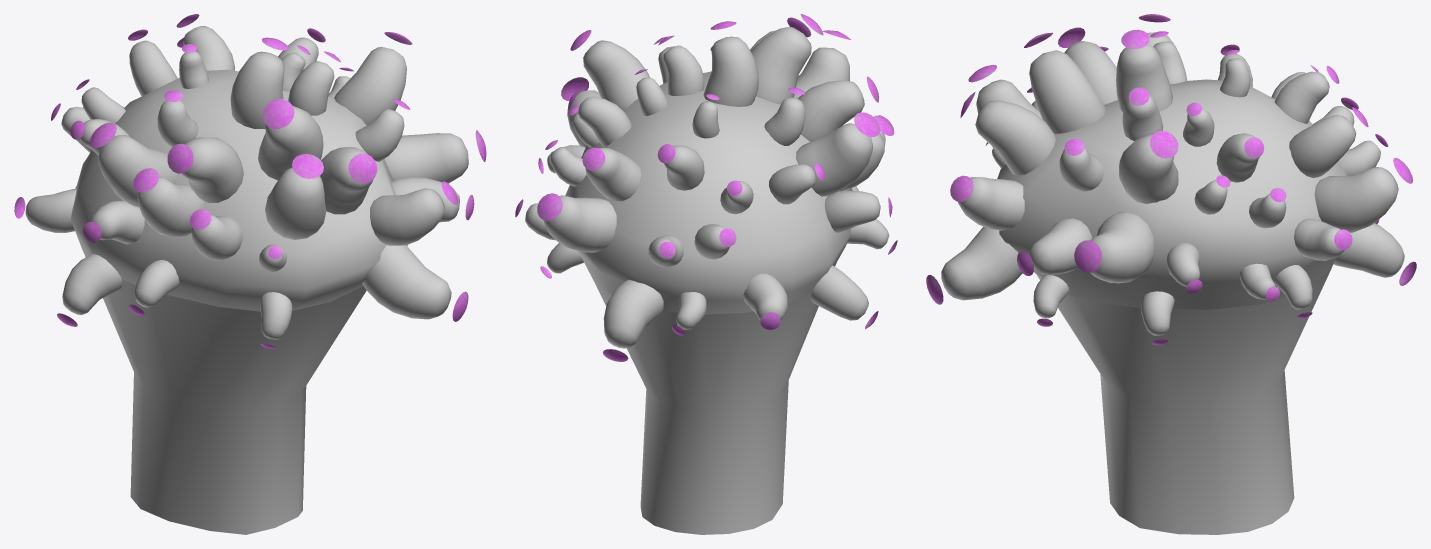
Rendered from P_Blob4.fbx.
3 renders of one model, left to right at view 1: azimuth 30°, elevation 25°; view 2: azimuth 150°, elevation 25°; view 3: azimuth 270°, elevation 25°, orthographic. The views are drawn at different scales.
Parts seen in each view (by area): view 1: Plant Blob 4.003; view 2: Plant Blob 4.003; view 3: Plant Blob 4.003.
Boxes of the visible parts, bbox=[...] form: Plant Blob 4.003: bbox=[14, 14, 486, 534]; Plant Blob 4.003: bbox=[515, 14, 897, 534]; Plant Blob 4.003: bbox=[926, 14, 1416, 534].
Bounding box in the file's own units: 48.4 × 58.74 × 54.19.
